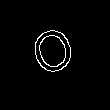O_NW: (23, 9, 79, 74)
